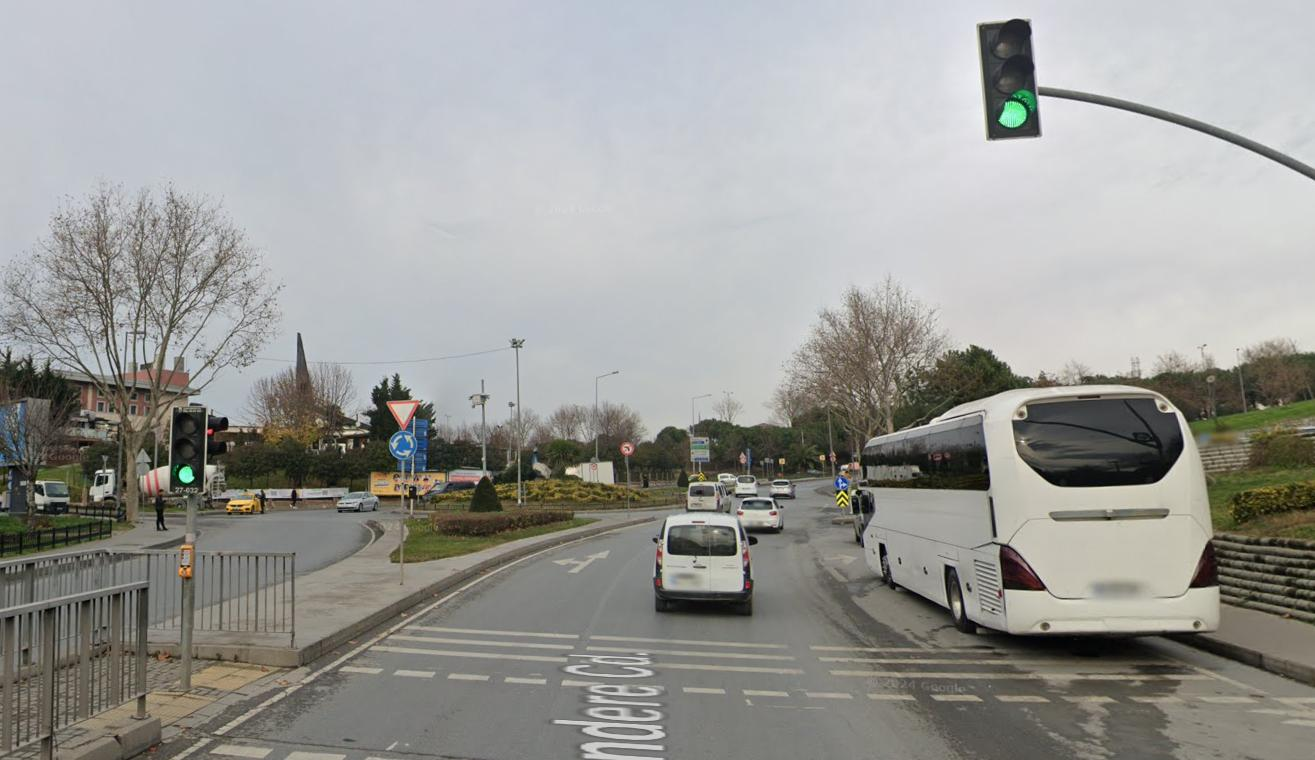crossroads: (386, 428, 421, 462)
greenlight: (973, 16, 1048, 148), (165, 399, 217, 501)
leftturnsareforbidden: (620, 440, 638, 456)
